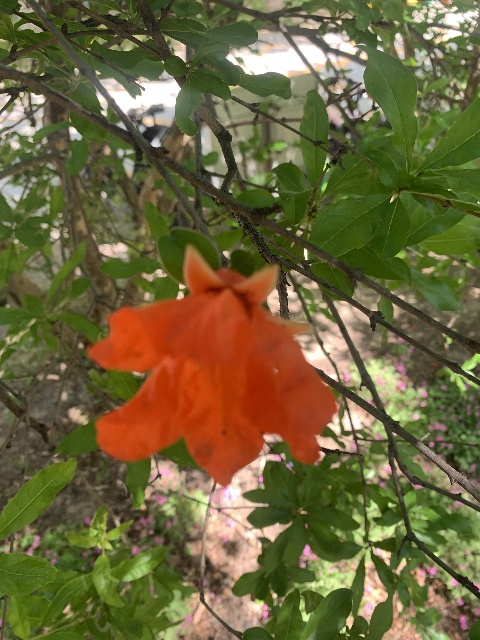flower: (85, 244, 334, 489)
